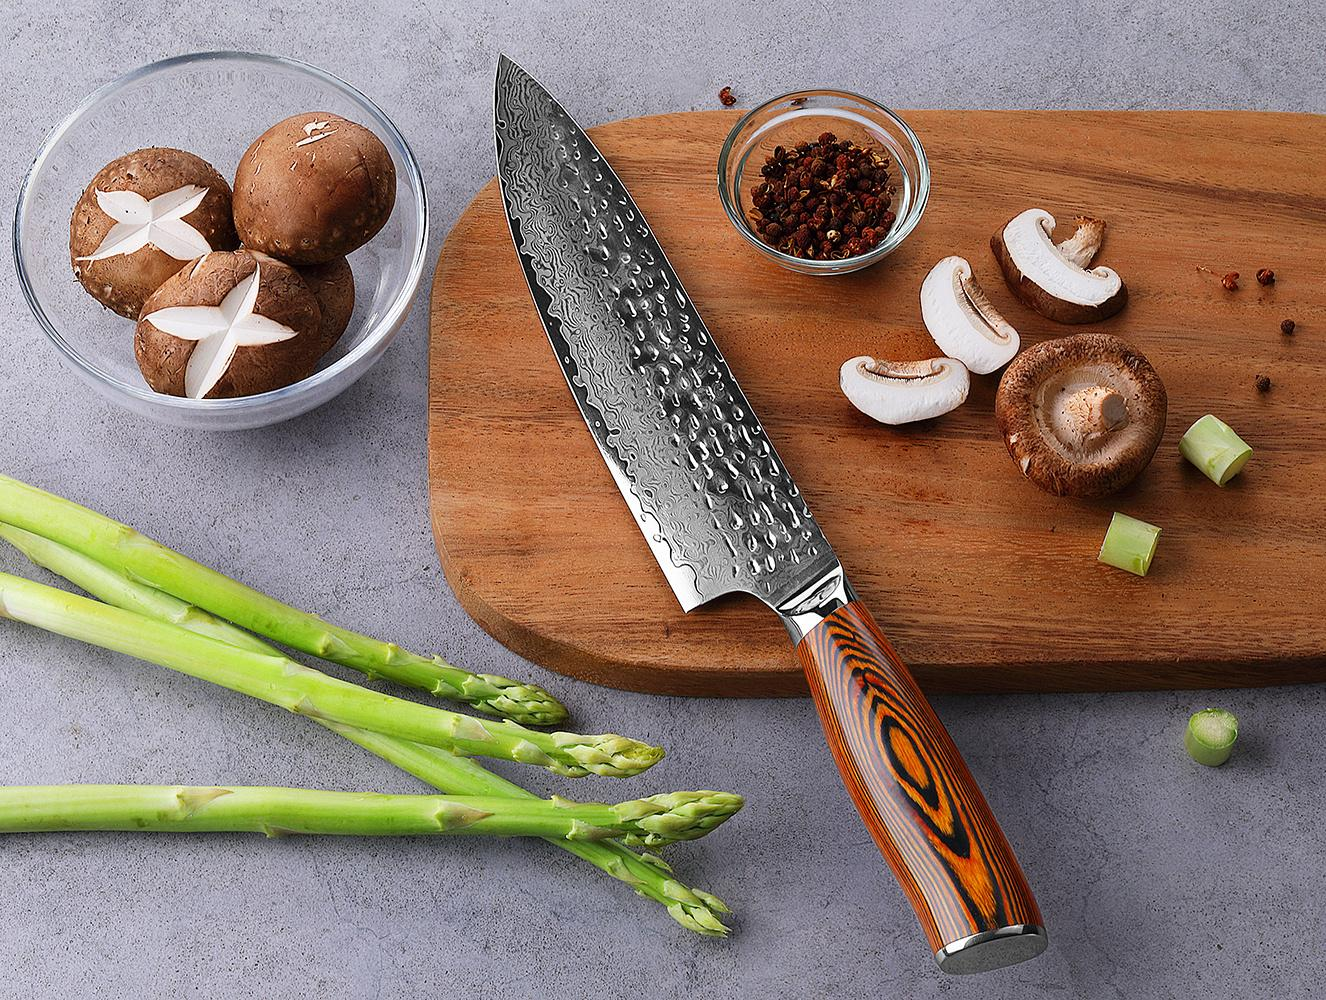knife: (478, 43, 1054, 981)
